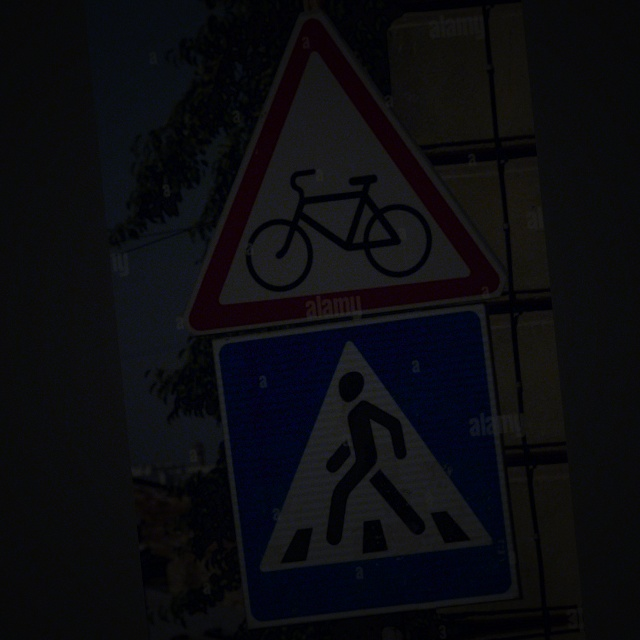Cycle_Crossing: (180, 8, 499, 323)
